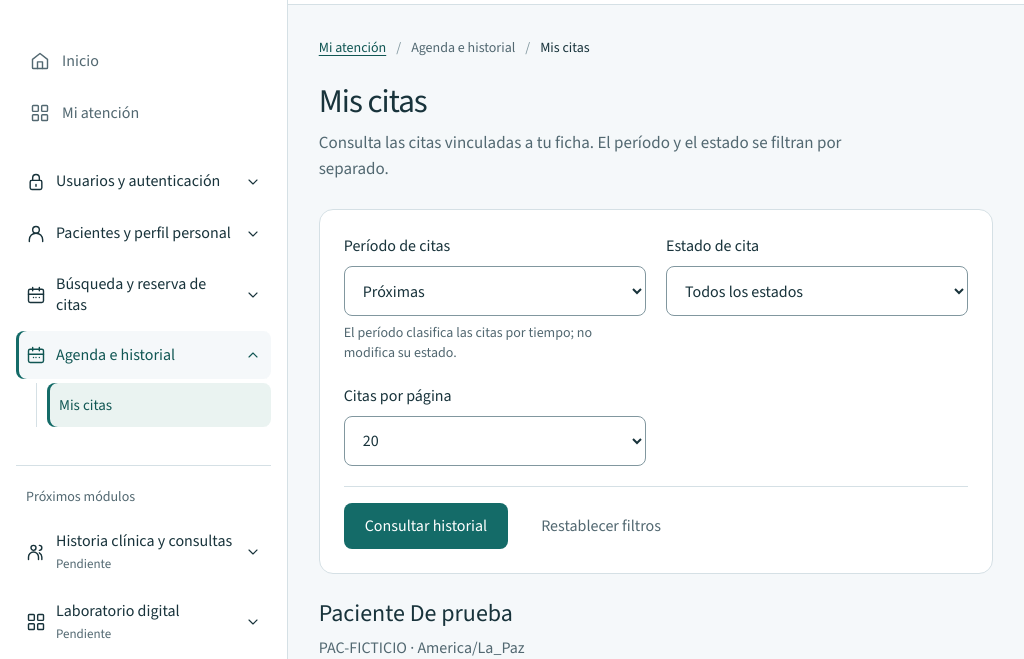
it: período anteriores usa orden/filas devueltos sin alterar estados
Select "Anteriores" in the dropdown labelled "Período de citas" at {"x": 495, "y": 291}, box [344, 266, 646, 316]
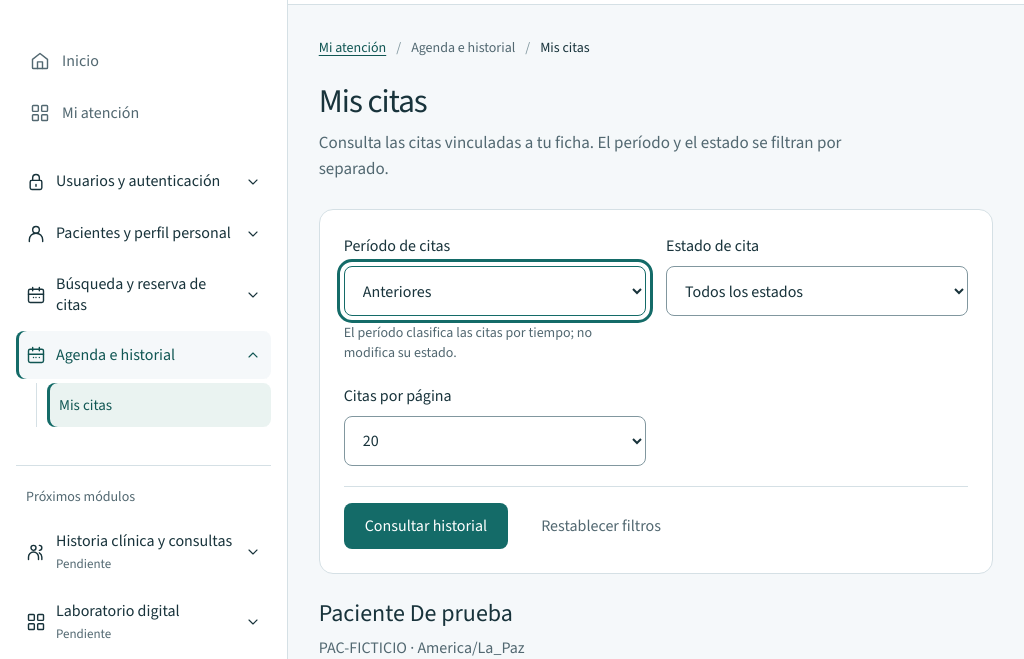
Select "Todos los estados" in the dropdown labelled "Estado de cita" at {"x": 817, "y": 291}, box [666, 266, 968, 316]
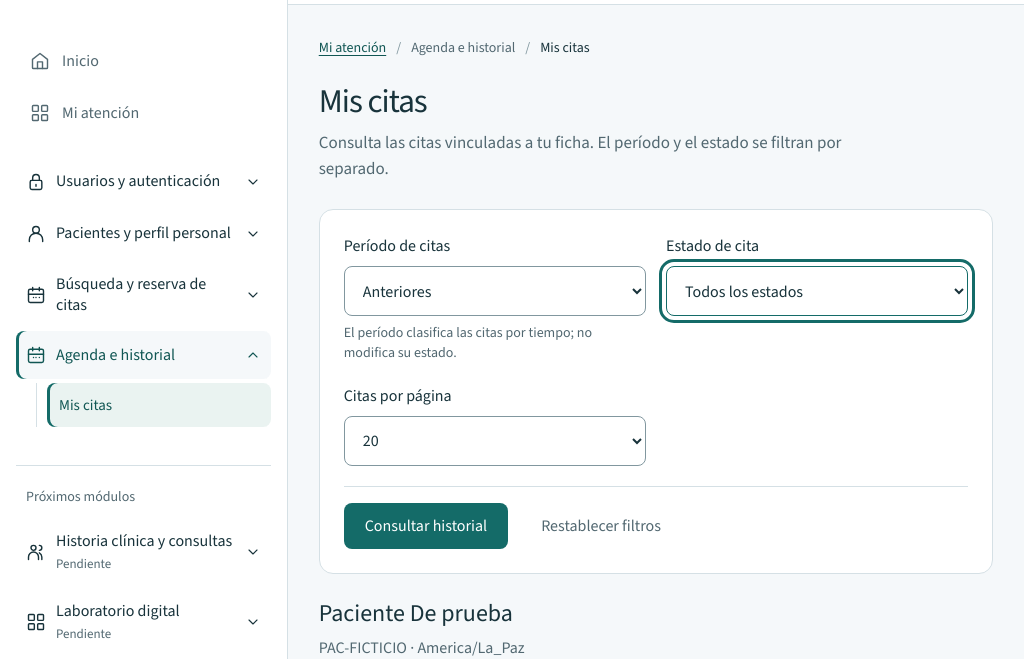
Click the button "Consultar historial".
click(426, 526)  # box [344, 503, 508, 549]
(page scrolled)
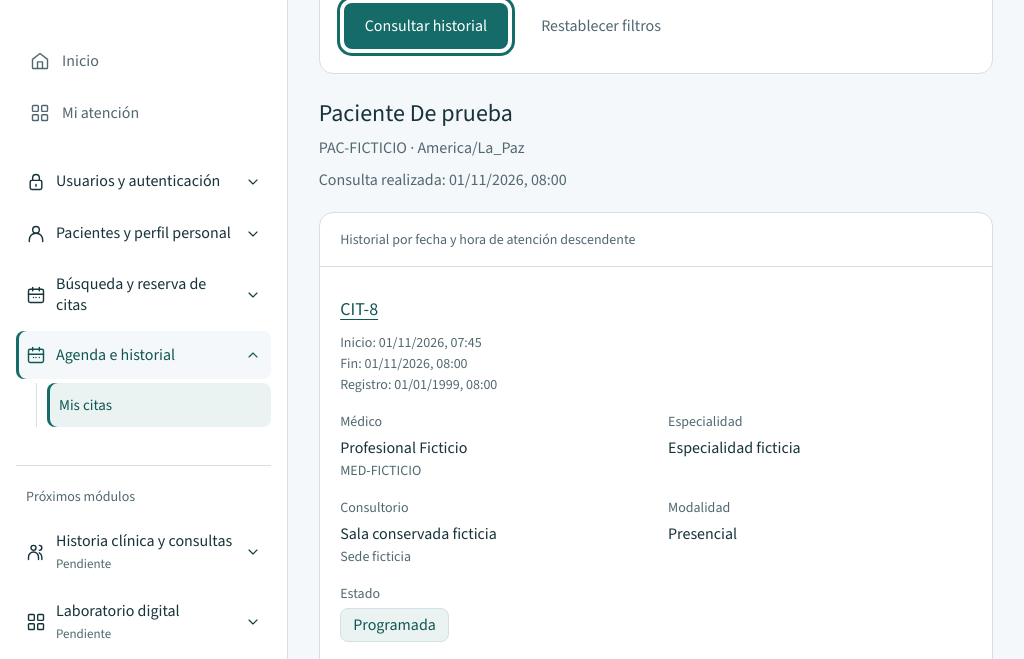
Expected: the link with aria-label "Ver cita CIT-8" is shown, [340, 297, 378, 321]
